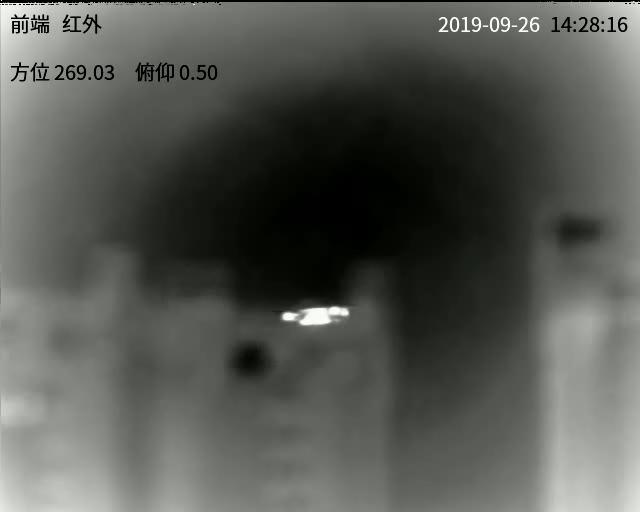uav: (272, 298, 347, 329)
